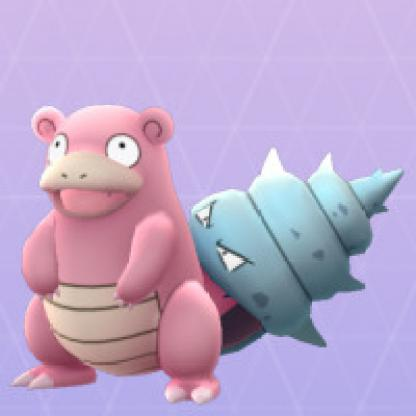Slowbro: (8, 60, 416, 389)
